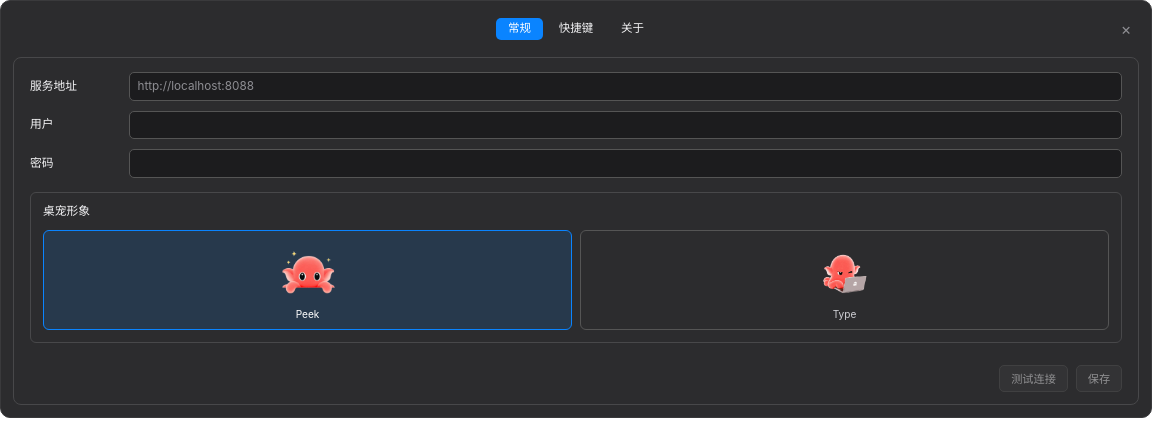
Test: SettingsWindow › normalizes and patches only credentials
This screenshot has width=1152, height=435.
Type " https://new.example/// " into the field labelled "服务地址" at x=625, y=86, box x1=129 y1=72 x2=1122 y2=100
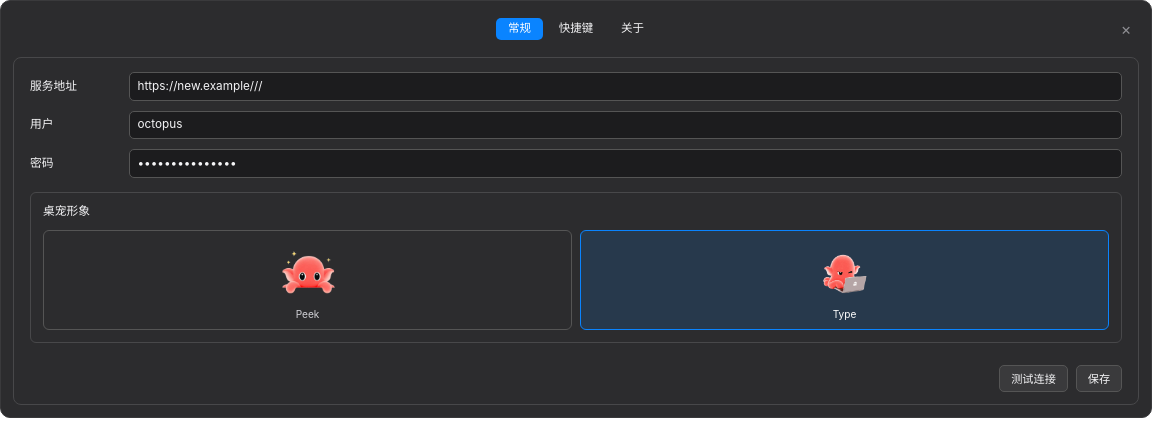
Replace the text in the field labelled "用户" with "new-user" at x=625, y=125, box x1=129 y1=110 x2=1122 y2=139
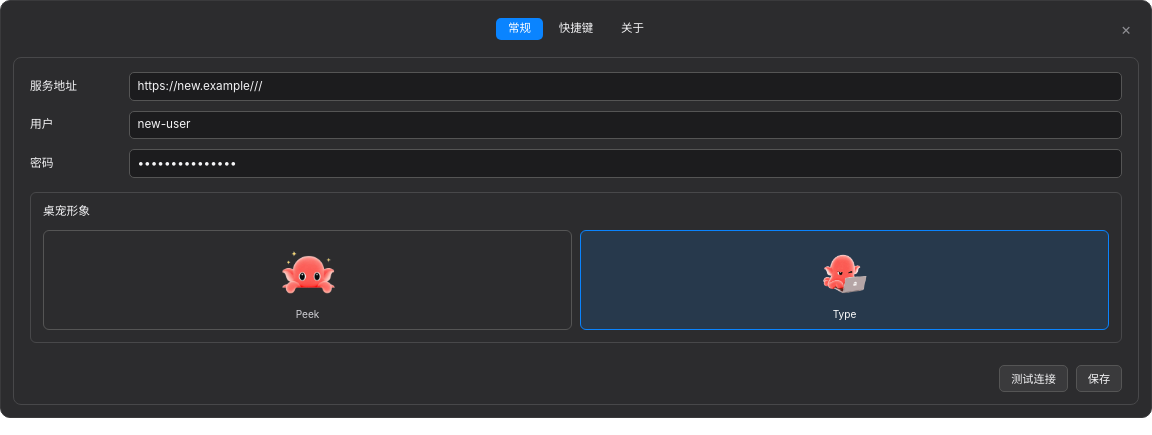
Type "new-password" into the password field labelled "密码" at x=625, y=163, box x1=129 y1=149 x2=1122 y2=178
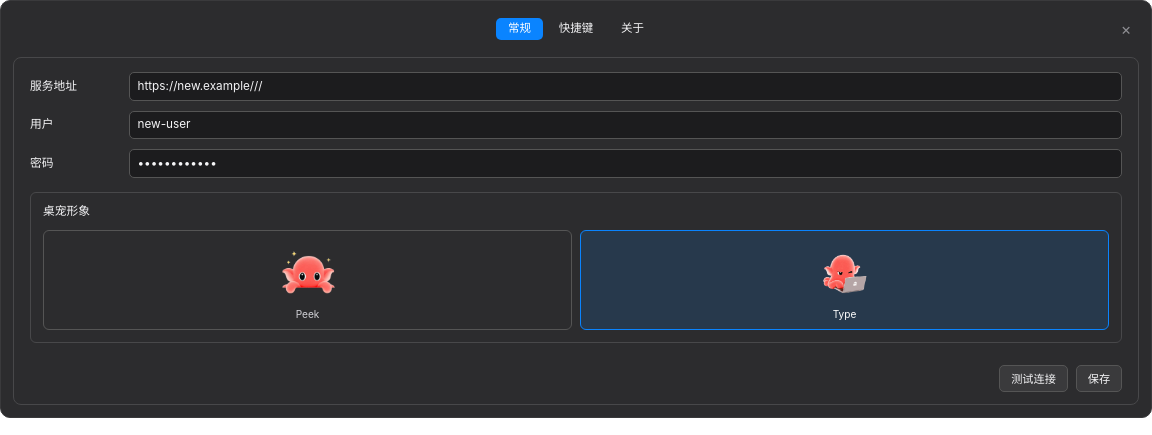
Click the button "保存" at x=1099, y=379, box x1=1076 y1=365 x2=1122 y2=392
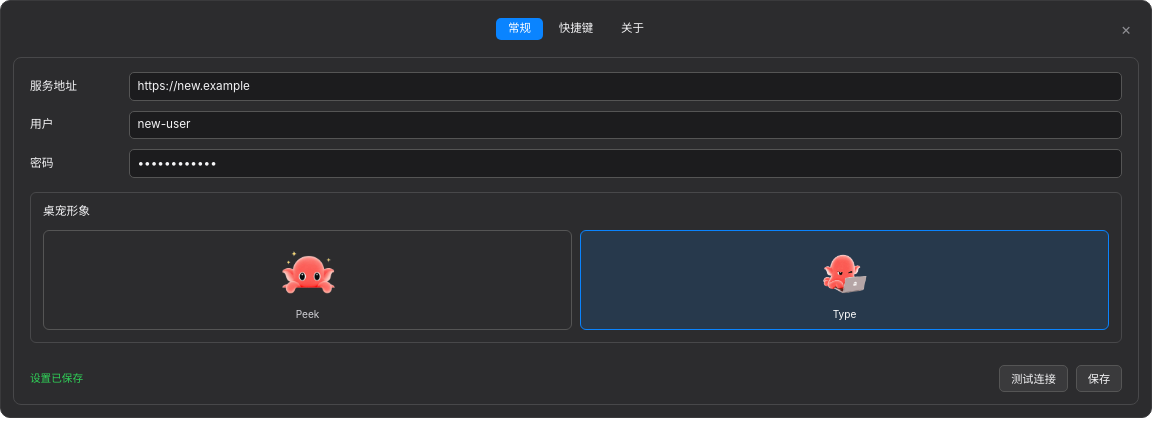
expect the text "设置已保存" is shown: met, box x1=30 y1=371 x2=83 y2=386
